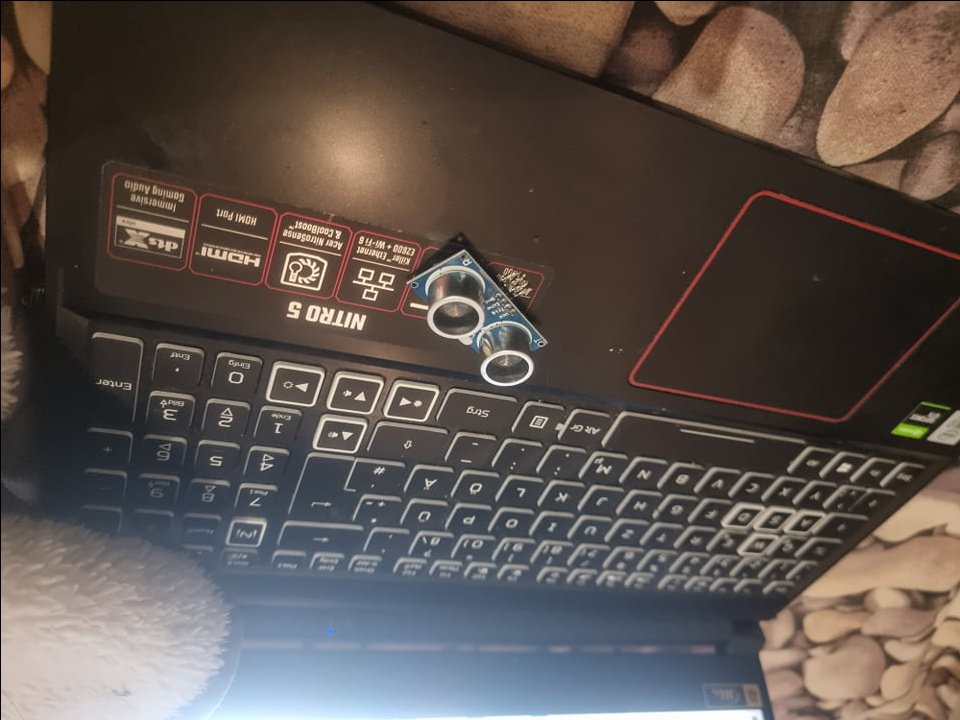SENSOR: (406, 246, 548, 388)
